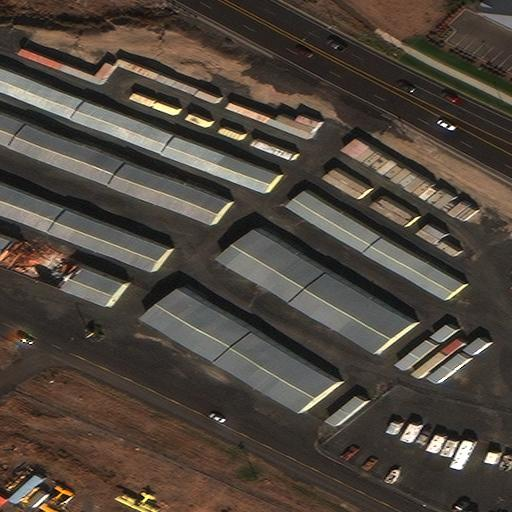Small Civil Transport: (114, 493, 150, 512)
